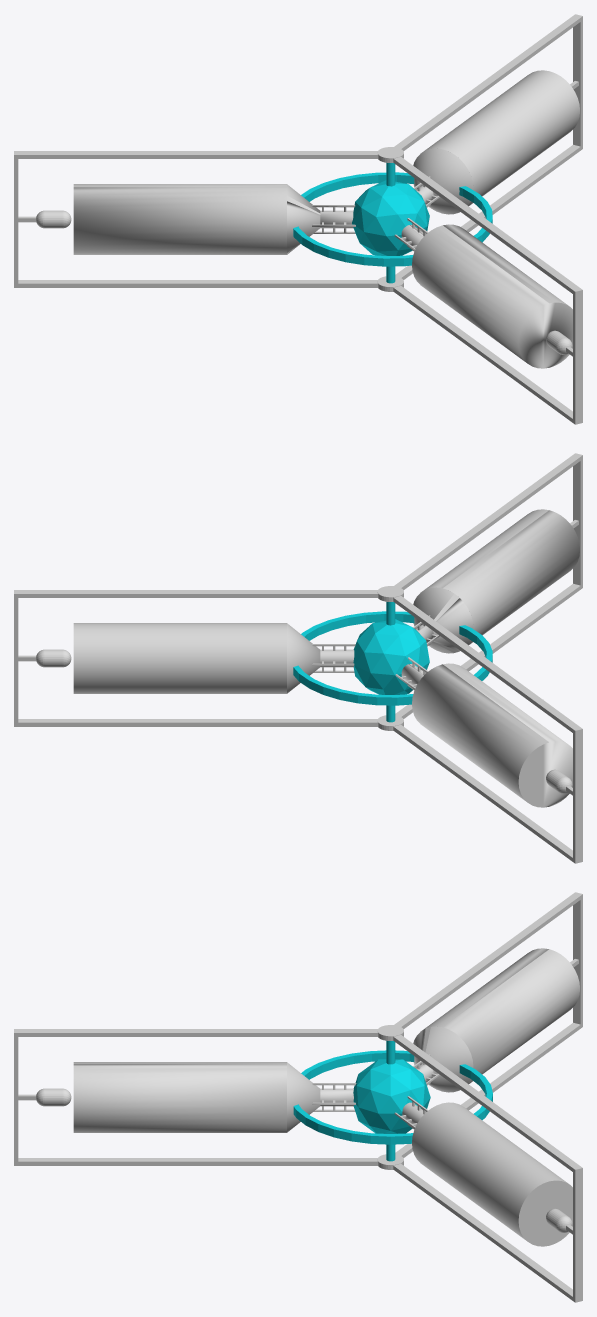
Rendered from spaceship_joined.fbx.
The picture shows the model from 3 angles, top to bottom: view 1: azimuth 30°, elevation 25°; view 2: azimuth 150°, elevation 25°; view 3: azimuth 270°, elevation 25°; orthographic projection.
Parts seen in each view (by area): view 1: Cube.001, Cube.005, Cylinder; view 2: Cube.001, Cube.005, Cylinder; view 3: Cube.001, Cube.005, Cylinder.
Part boxes in pixels (x1,y1,x2,y2): Cube.001: (73,70,579,368); Cube.005: (14,14,582,424); Cylinder: (293,162,492,283); Cube.001: (73,509,579,807); Cube.005: (14,453,582,863); Cylinder: (293,602,492,722); Cube.001: (73,948,579,1246); Cube.005: (14,892,582,1302); Cylinder: (293,1040,492,1161).
Bounding box in the file's own units: 14782 × 3320 × 12802.
